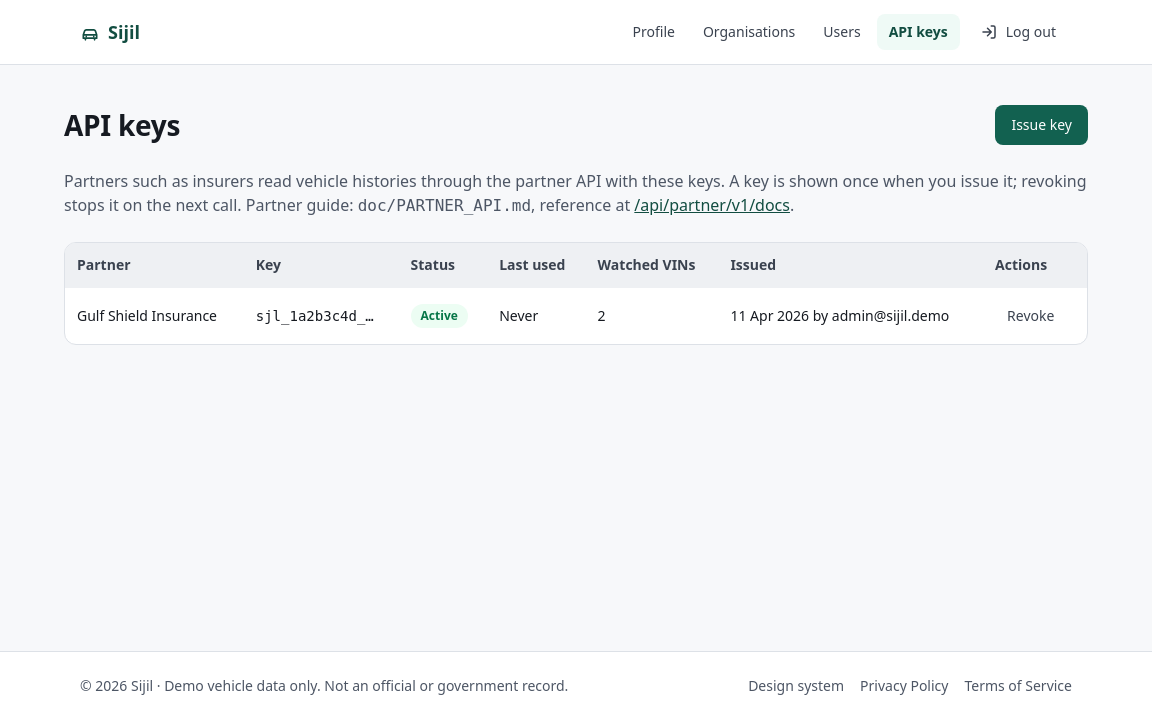
Test: admin: partner API keys › revokes after confirming
Click the button with aria-label "Revoke key for Gulf Shield Insurance" at [1031, 316], box [995, 300, 1066, 332]
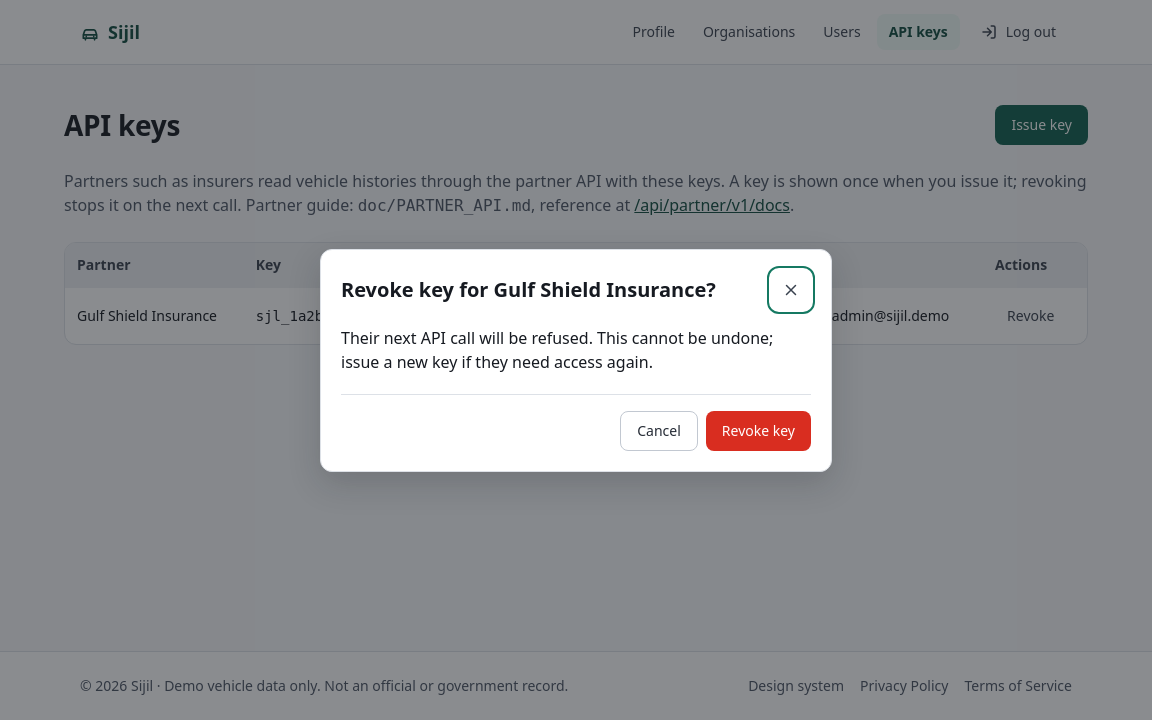
Click the button "Revoke key" at [758, 430], box [706, 410, 811, 450]
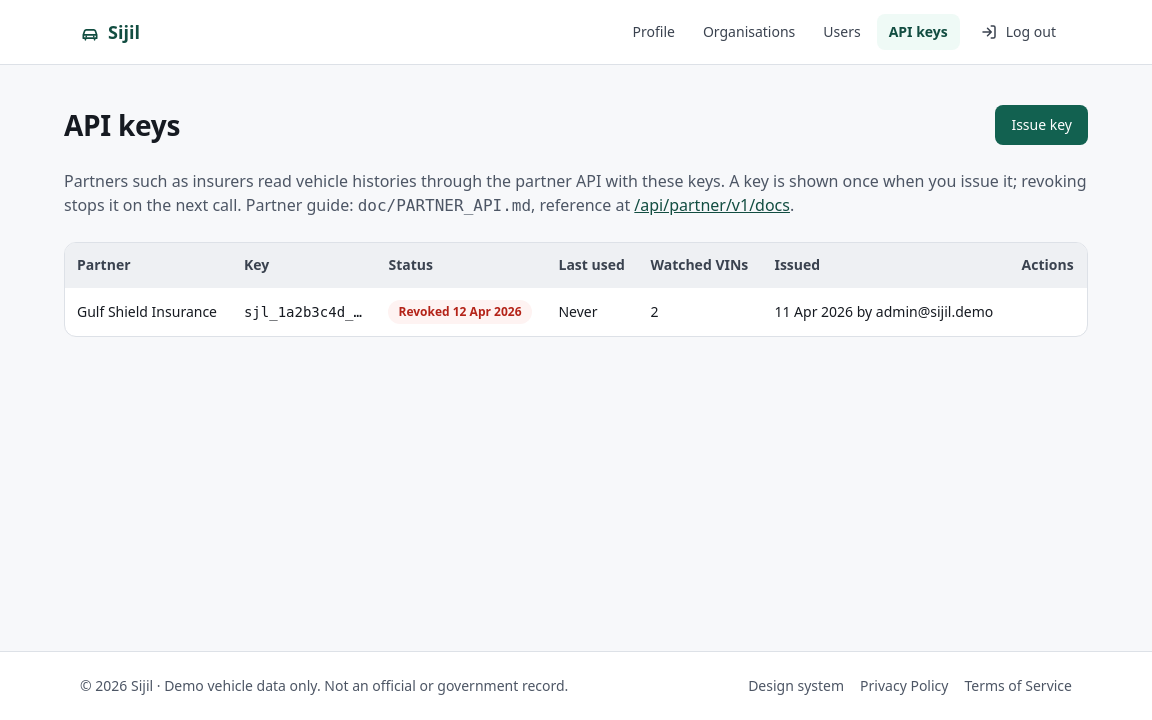
Result: the text "Revoked 12 Apr 2026" is shown at [388, 300, 532, 324]
Result: the heading "Revoke key for" is gone
